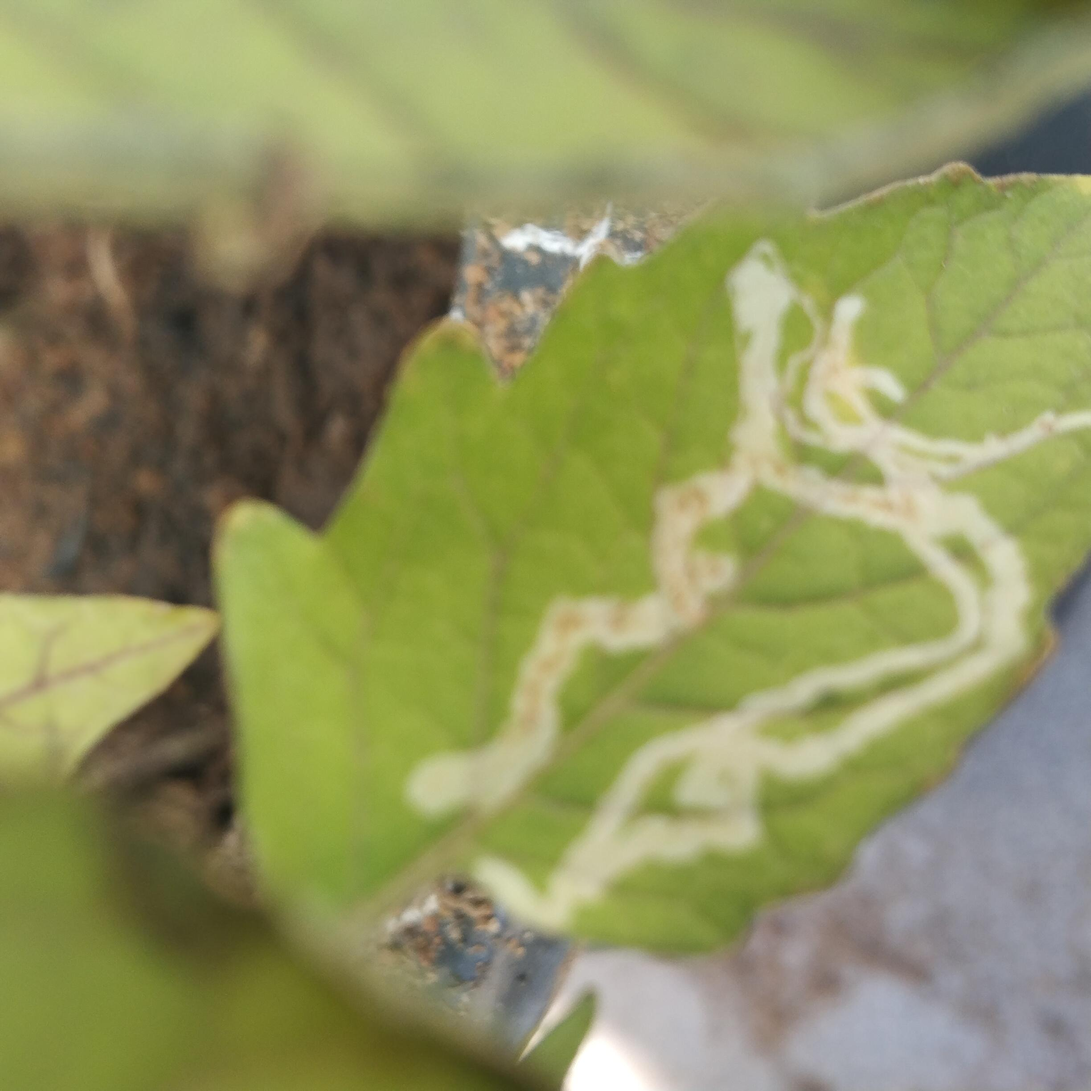Leaf_Miner: (140, 214, 936, 1091)
